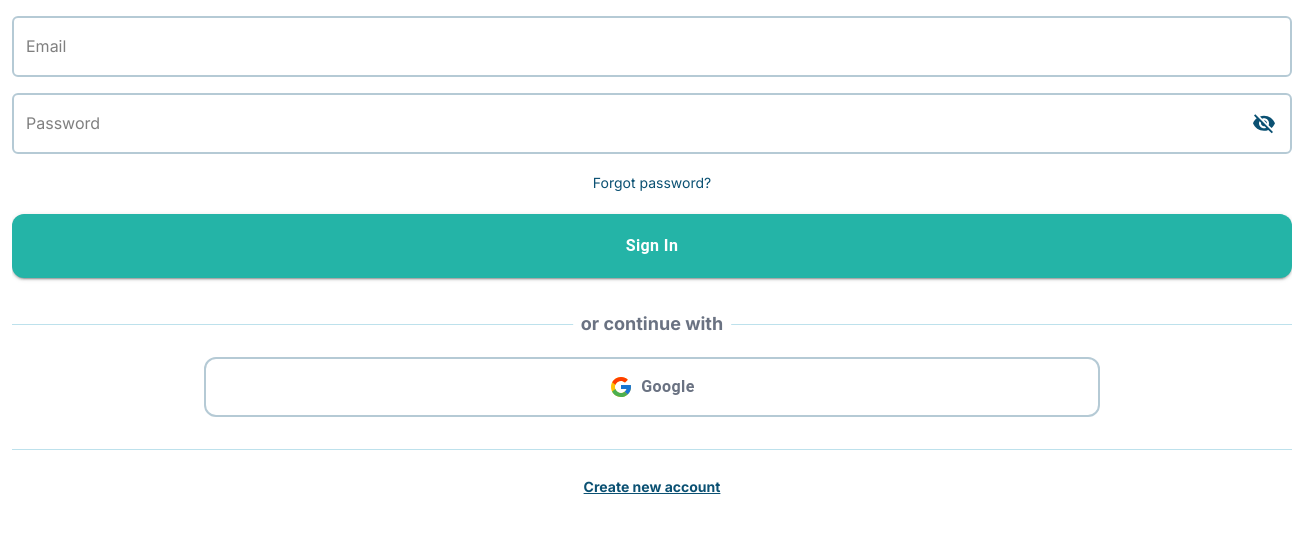
SignInForm Component › Form Validation › shows error when email is empty
Expected: the field with placeholder "Email" is empty, [12, 16, 1292, 77]
Step 1. Click the button "Sign In" → (652, 246), box [12, 214, 1292, 278]
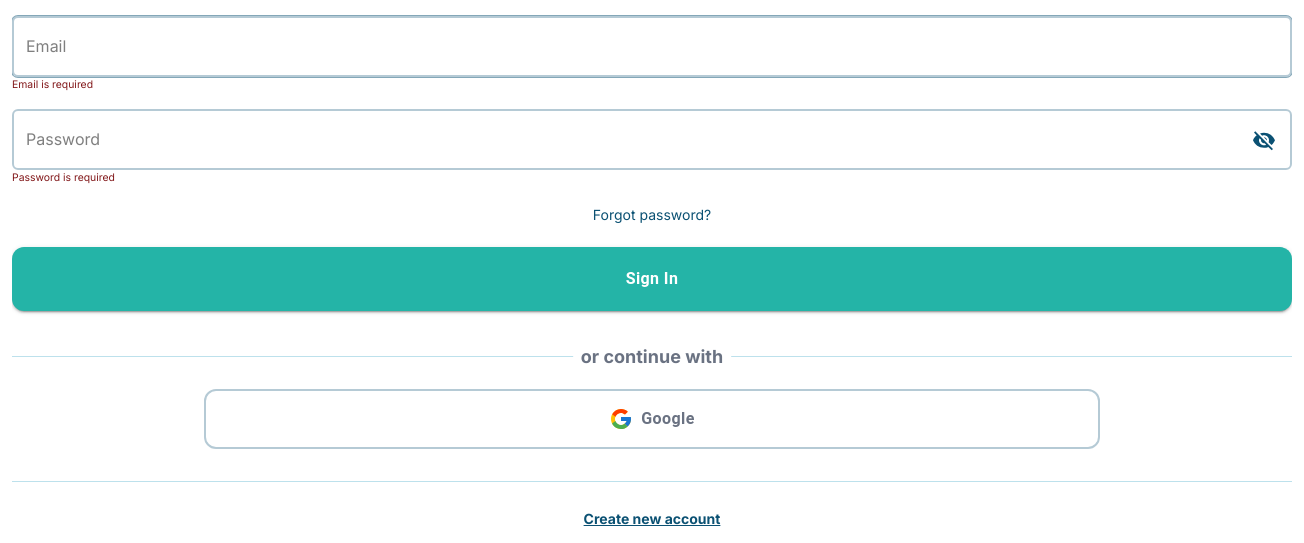
Result: the text "Email is required" is shown at [12, 78, 93, 91]
